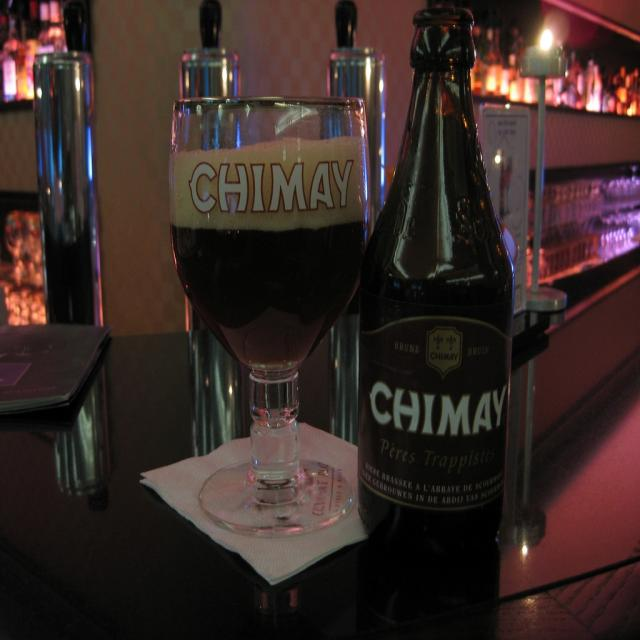chimay: (359, 318, 512, 512), (183, 155, 359, 219)
